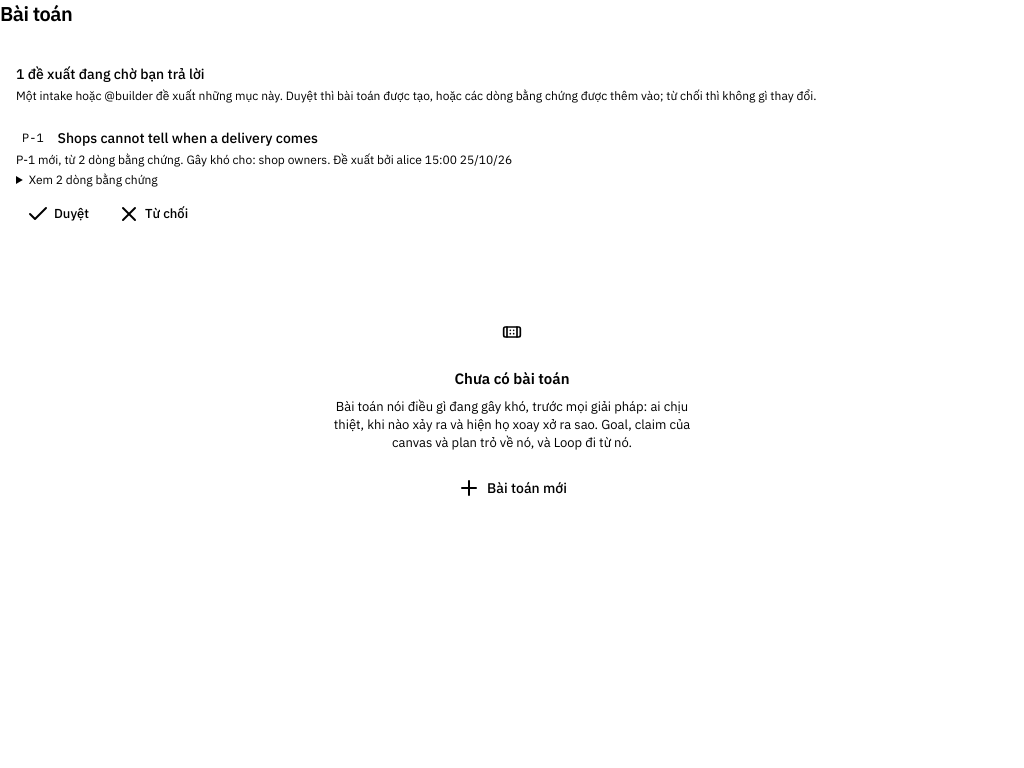
the proposals that wait for a writer › reject one after a confirmation
The width and height of the screenshot is (1024, 768).
Click the button with test id "waiting-proposal-reject". click: (153, 214)
box: [107,200,198,228]
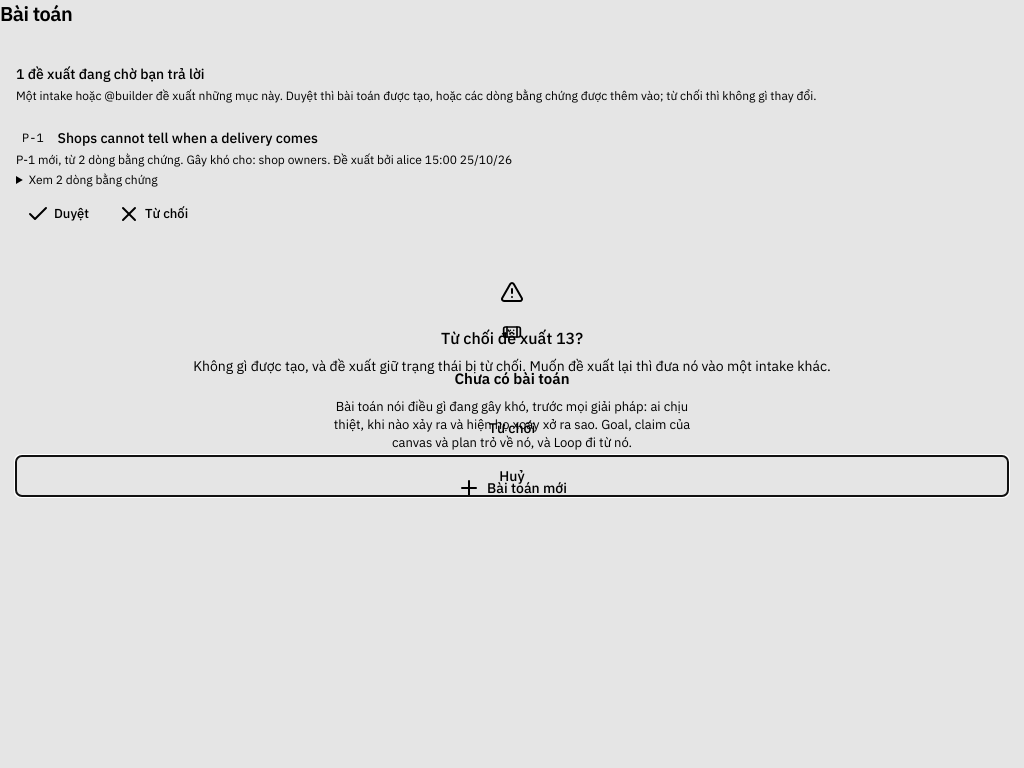
Expected: the dialog with test id "waiting-proposal-reject-dialog" shows "Từ chối đề xuất 13?", [441,328,583,348]
Click the button "Từ chối". click: (512, 428)
box: [16,408,1008,448]
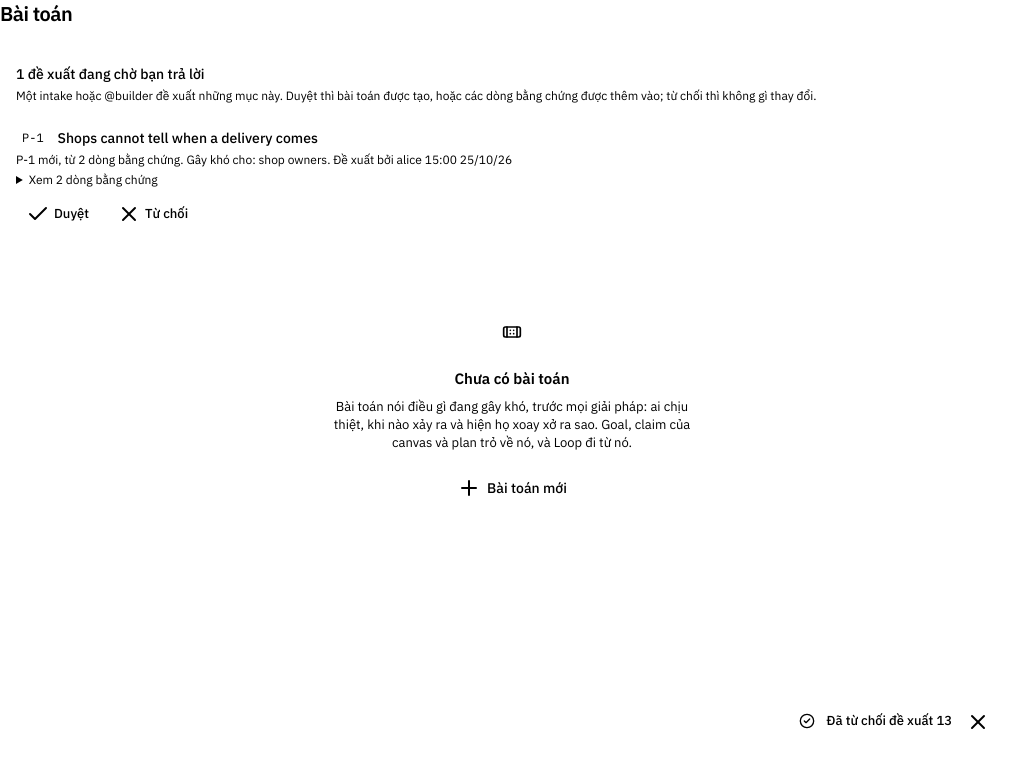
Expected: the text "Đã từ chối đề xuất 13" is shown, [826,712,952,730]
